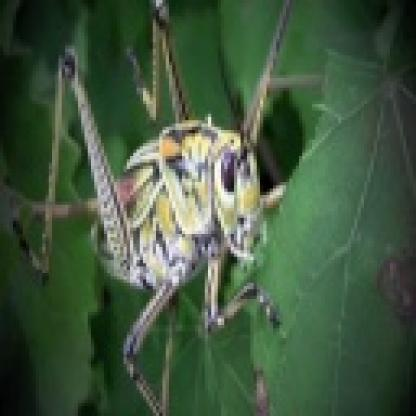grasshopper: (11, 3, 322, 392)
